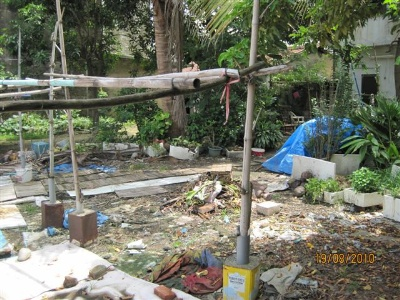styrofoam: (341, 187, 385, 208), (169, 144, 200, 160)
